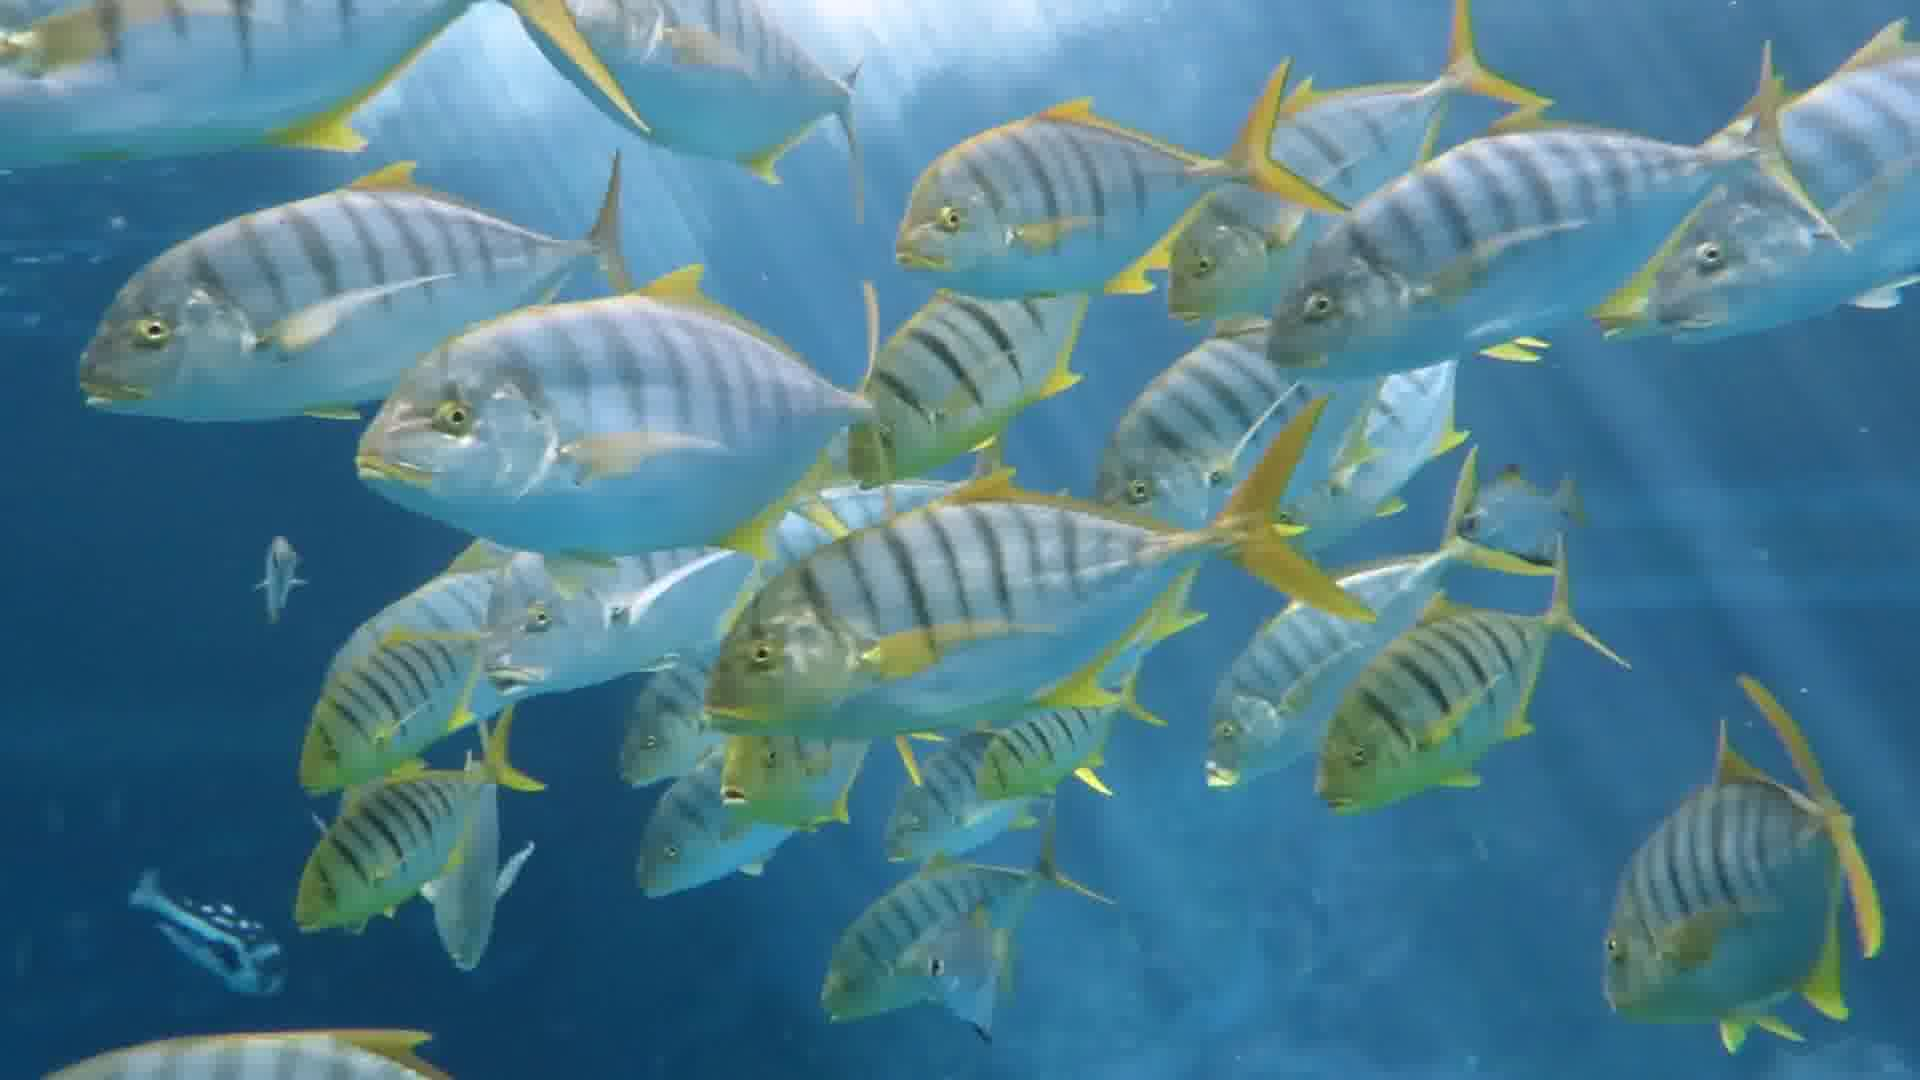Gnathanodon speciosus: (49, 154, 609, 463), (363, 285, 855, 542), (687, 502, 1163, 767), (1563, 733, 1867, 1017), (1278, 150, 1652, 380), (1626, 124, 1920, 392), (1170, 556, 1465, 818), (1176, 73, 1443, 338), (855, 98, 1216, 286), (1313, 608, 1571, 828), (798, 855, 1080, 1029), (262, 767, 535, 947), (301, 595, 476, 800), (480, 538, 679, 698), (601, 777, 775, 903)
